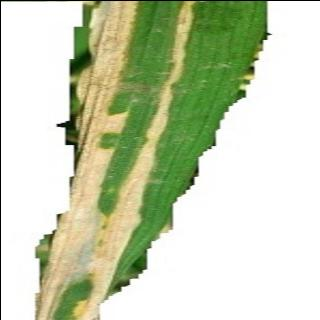Hawar-Daun: (55, 0, 120, 320), (150, 0, 177, 214)
